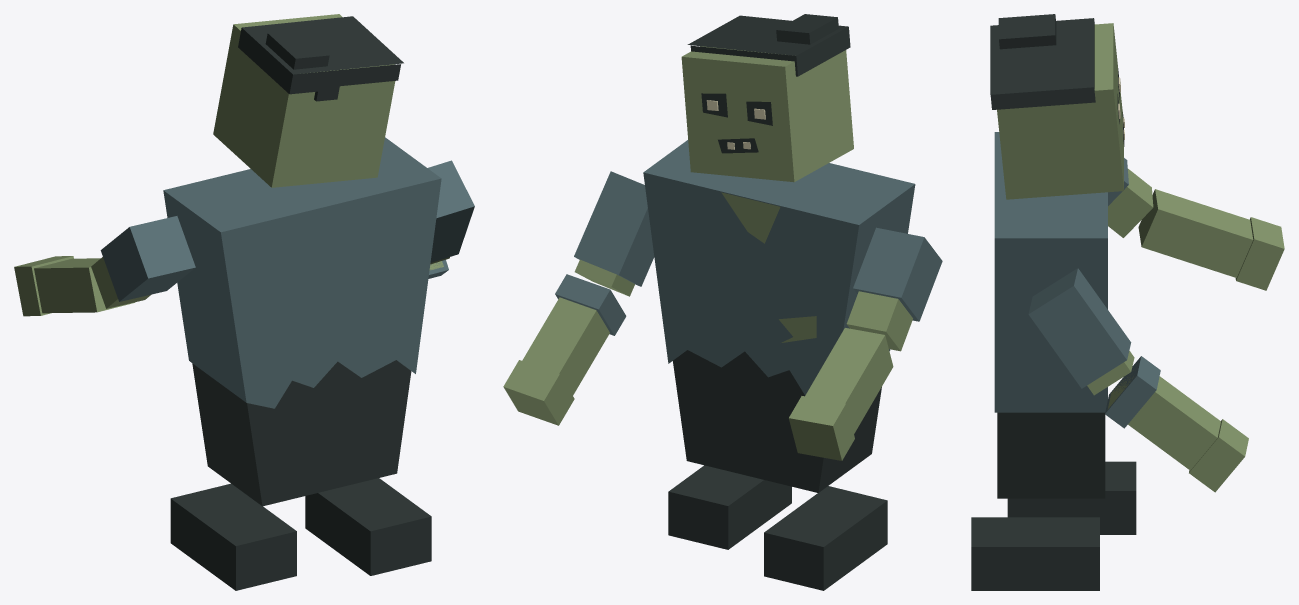
The model's file is zombie_normal.glb.
The picture shows the model from 3 angles, left to right: view 1: azimuth 30°, elevation 25°; view 2: azimuth 150°, elevation 25°; view 3: azimuth 270°, elevation 25°; orthographic projection. The views are drawn at different scales.
Parts seen in each view (by area): view 1: body, head, ShoeLeft, ShoeRight, armLeft, handLeft, armRight; view 2: body, head, handRight, ShoeLeft, handLeft, armLeft, ShoeRight, armRight; view 3: body, head, ShoeRight, handRight, handLeft, armRight, ShoeLeft, armLeft.
Part boxes in pixels (x1=…): body: x1=163, y1=137, x2=441, y2=506; head: x1=213, y1=14, x2=403, y2=187; ShoeLeft: x1=170, y1=483, x2=296, y2=590; ShoeRight: x1=305, y1=478, x2=431, y2=575; armLeft: x1=91, y1=216, x2=195, y2=308; handLeft: x1=14, y1=256, x2=134, y2=316; armRight: x1=427, y1=160, x2=474, y2=264; body: x1=643, y1=140, x2=915, y2=492; head: x1=681, y1=14, x2=853, y2=182; handRight: x1=503, y1=274, x2=626, y2=425; ShoeLeft: x1=764, y1=486, x2=887, y2=590; handLeft: x1=788, y1=328, x2=893, y2=460; armLeft: x1=846, y1=227, x2=942, y2=351; ShoeRight: x1=668, y1=465, x2=791, y2=549; armRight: x1=574, y1=171, x2=654, y2=296; body: x1=994, y1=132, x2=1107, y2=498; head: x1=990, y1=14, x2=1124, y2=199; ShoeRight: x1=971, y1=517, x2=1099, y2=590; handRight: x1=1105, y1=356, x2=1248, y2=492; handLeft: x1=1138, y1=189, x2=1284, y2=290; armRight: x1=1028, y1=268, x2=1134, y2=395; ShoeLeft: x1=1007, y1=461, x2=1136, y2=534; armLeft: x1=1108, y1=158, x2=1153, y2=237.
Bounding box in the file's own units: 1.16 × 1.65 × 0.9011.
